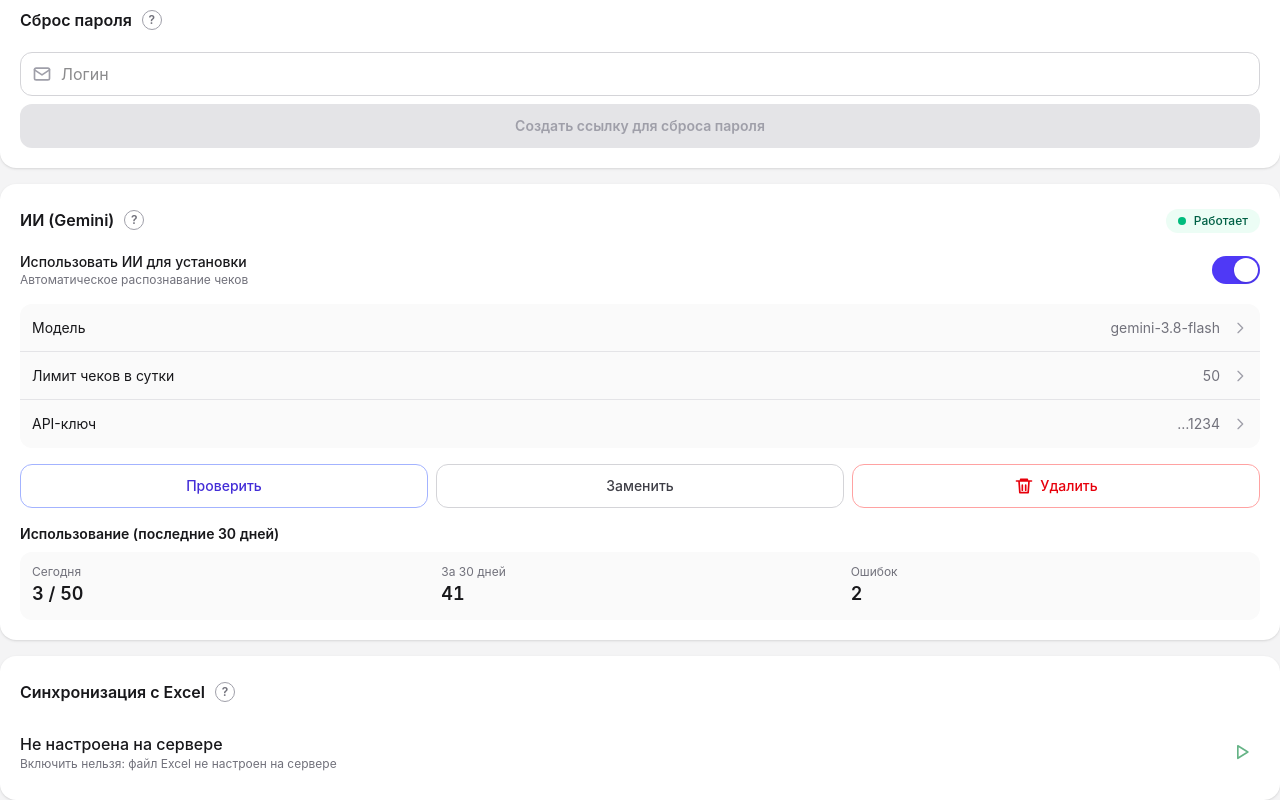
Test case: админ: статус и переключатель › «Ошибка» (красный) — только после неудачной проверки
The image size is (1280, 800).
(page scrolled)
Expected: the element "Использование" is shown, [20,524,1260,620]
Expected: the message reads "Работает", [1194,213,1248,228]
Step 1. Click the button "Проверить" → [224, 486], box [20,464,428,508]
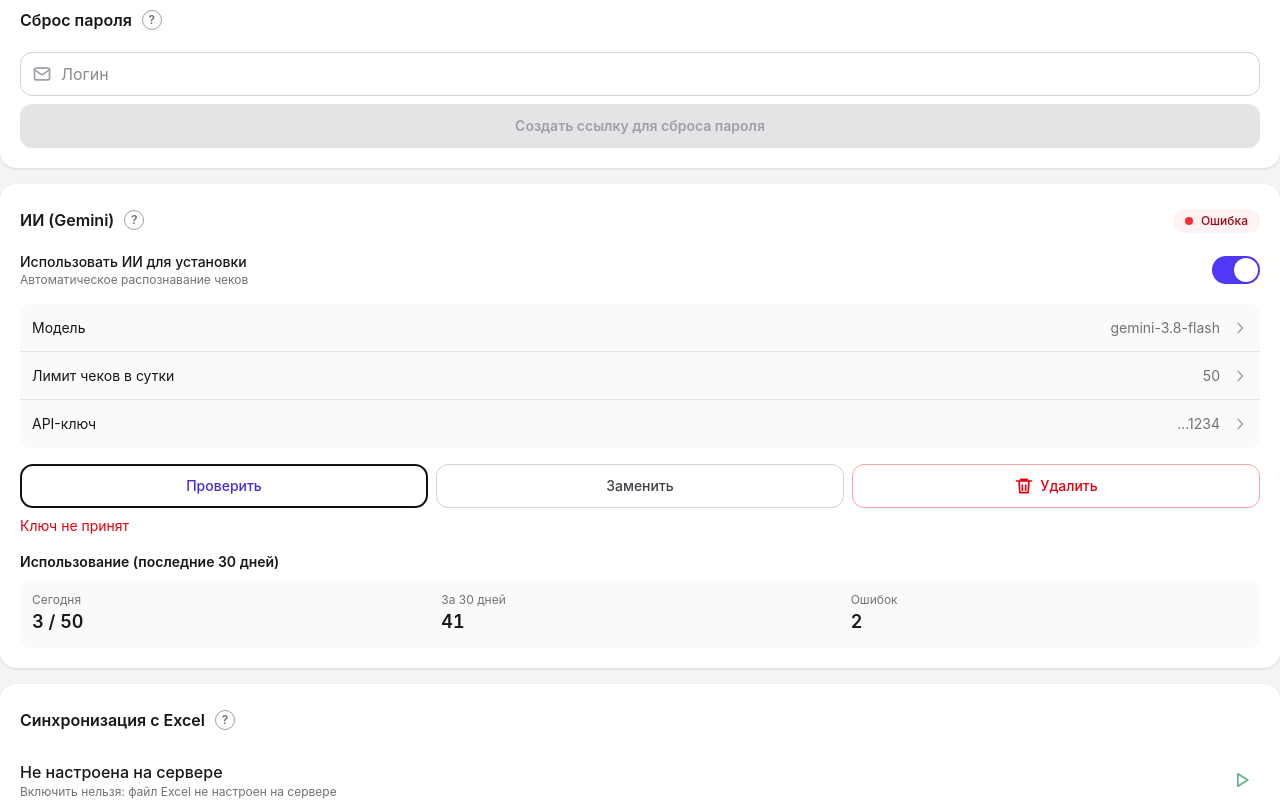
Expected: the message "Ошибка" is shown, [1173,209,1260,233]
Expected: the message "Ключ не принят" is shown, [20,517,129,534]
